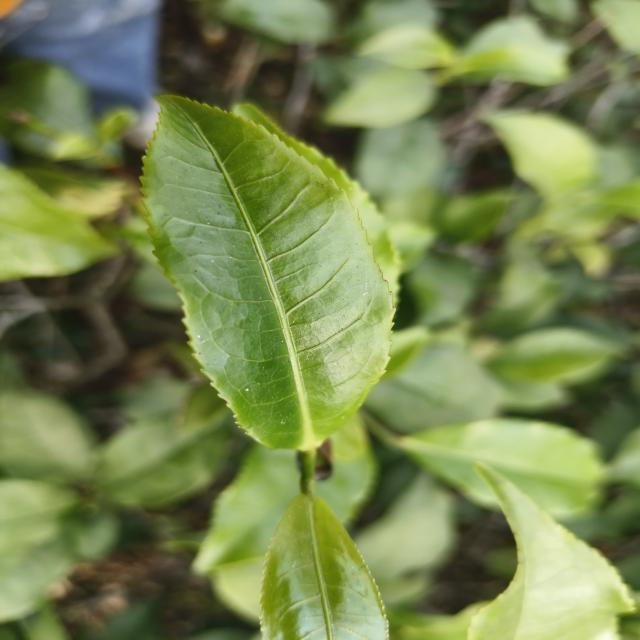Leaf: (142, 96, 393, 449), (468, 463, 634, 640), (391, 419, 602, 517), (261, 489, 388, 640), (0, 479, 119, 622), (0, 165, 118, 281), (96, 409, 228, 508), (484, 111, 597, 197), (0, 389, 95, 483), (446, 16, 568, 86), (486, 328, 620, 383), (355, 119, 444, 197), (325, 67, 435, 128), (218, 0, 334, 45), (357, 23, 455, 69)
